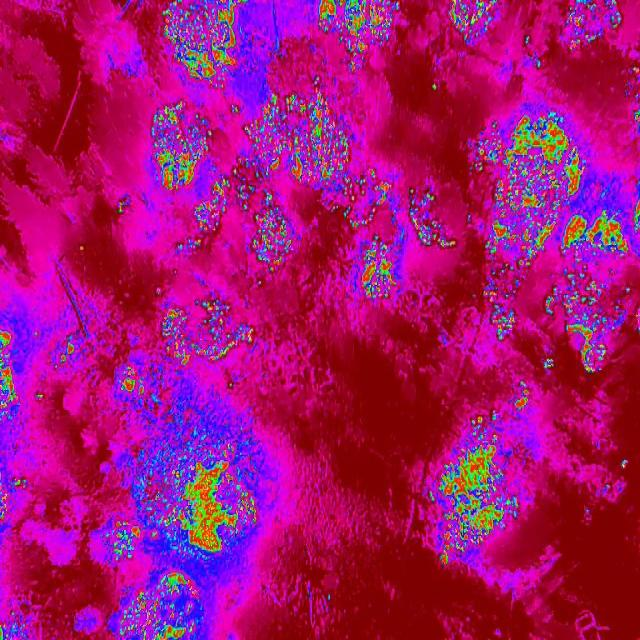fire: (469, 117, 582, 339), (99, 426, 268, 566), (428, 410, 519, 566), (230, 92, 360, 196), (162, 0, 248, 86), (160, 293, 259, 367), (119, 570, 205, 640), (152, 99, 214, 190), (583, 262, 629, 372), (583, 180, 640, 256), (316, 0, 402, 45), (250, 196, 298, 270), (358, 232, 403, 304), (562, 0, 624, 49), (409, 184, 457, 246), (448, 0, 500, 40), (109, 361, 152, 404), (190, 190, 230, 234), (0, 326, 16, 424), (358, 165, 389, 205), (342, 204, 378, 230), (54, 332, 78, 368), (0, 612, 30, 640), (343, 44, 371, 74), (630, 64, 640, 128), (511, 380, 532, 410), (174, 238, 202, 254), (115, 196, 132, 220), (0, 486, 7, 526), (310, 72, 324, 91), (13, 475, 29, 489), (216, 174, 230, 190), (543, 358, 558, 372), (635, 306, 640, 336), (34, 390, 46, 402), (30, 328, 40, 340), (621, 456, 630, 469), (524, 33, 532, 47), (583, 507, 593, 518), (331, 204, 342, 212), (226, 380, 234, 390), (256, 278, 264, 288), (432, 82, 438, 93), (78, 244, 86, 252), (536, 60, 542, 70), (242, 202, 247, 212), (328, 594, 333, 601)
